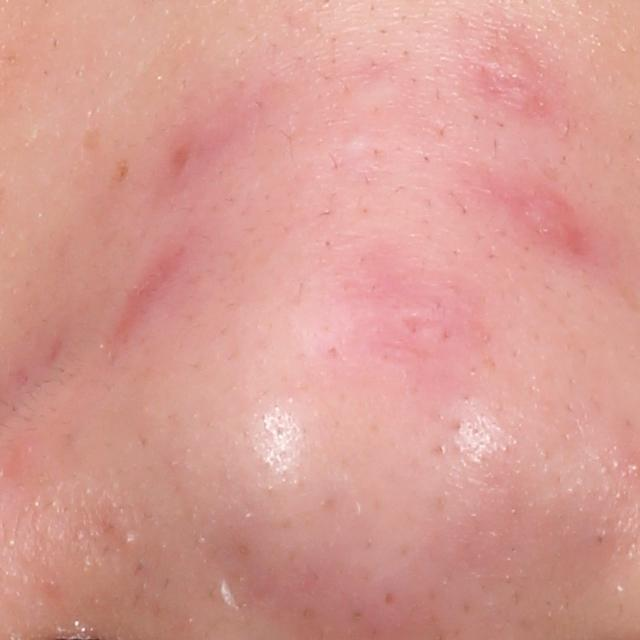comedo: (120, 532, 138, 548)
other: (211, 537, 258, 626)
